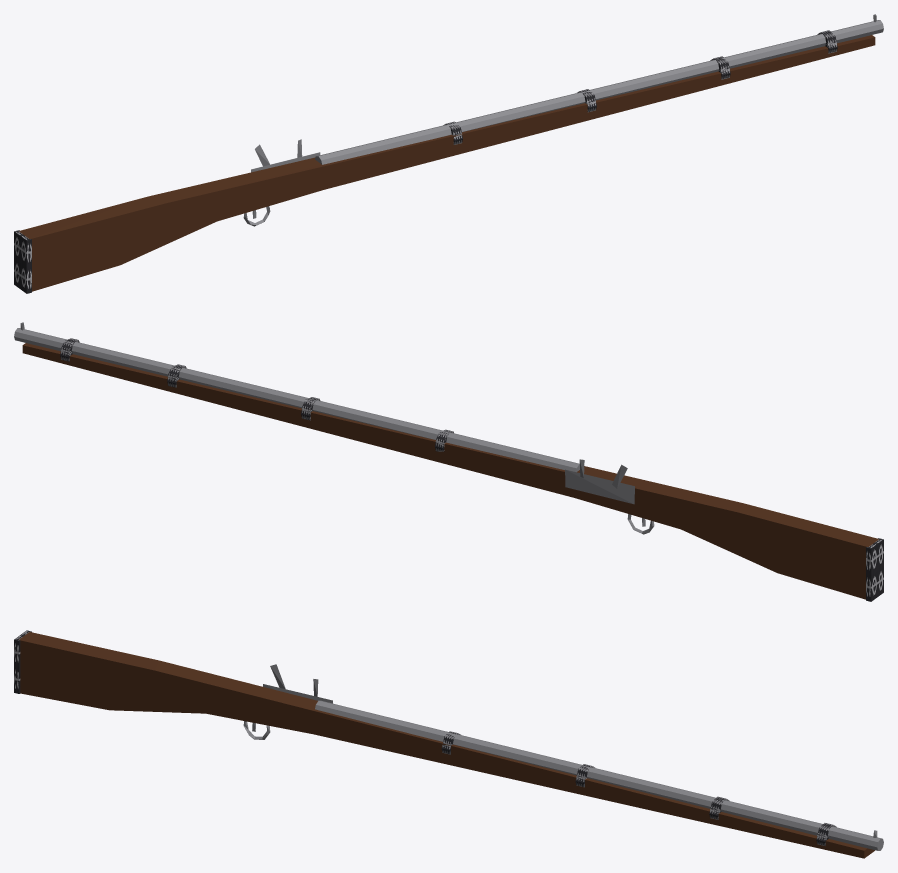
The model's file is flintlock_rifle_lod1.glb.
The picture shows the model from 3 angles, top to bottom: view 1: azimuth 30°, elevation 25°; view 2: azimuth 150°, elevation 25°; view 3: azimuth 330°, elevation 25°; orthographic projection.
Visible parts, largest first — view 1: m; view 2: m; view 3: m.
Boxes of the visible parts, x1,y1,x2,y2 form: m: (14, 14, 883, 293); m: (14, 322, 883, 601); m: (14, 630, 883, 858).
Size of the model in its own units: 1.61 by 0.1399 by 0.0479.
Materials: 3 (2 with a texture image).
